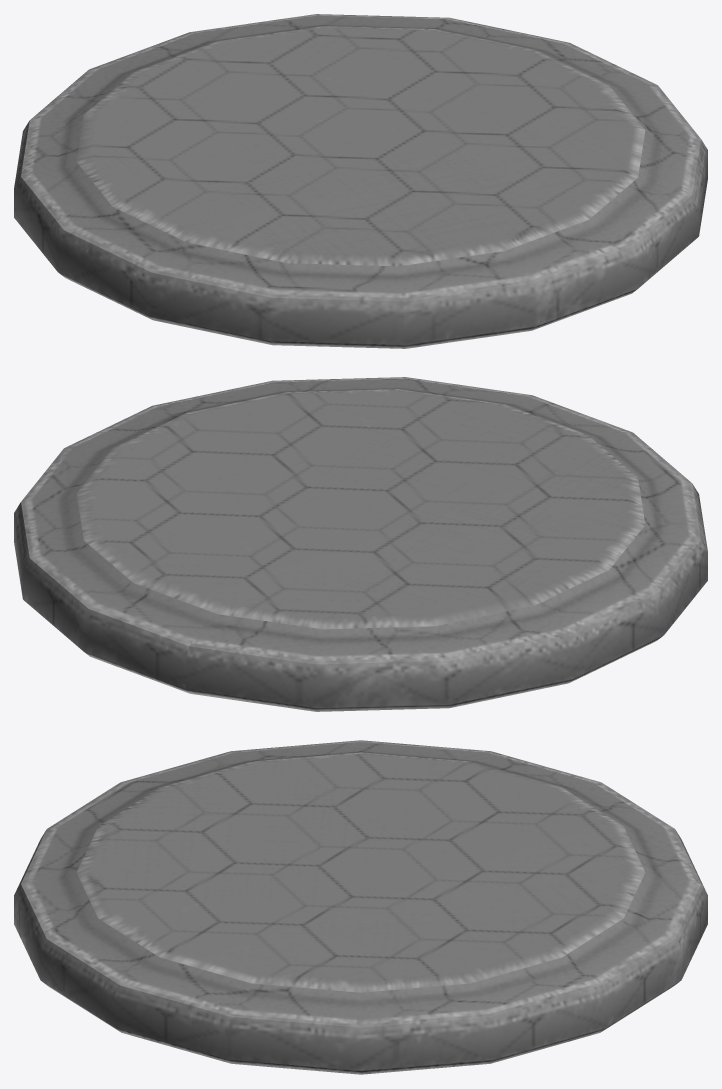
File: SM_ChipsCan_CanLid.fbx
3 renders of one model, top to bottom at view 1: azimuth 30°, elevation 25°; view 2: azimuth 150°, elevation 25°; view 3: azimuth 270°, elevation 25°, orthographic.
Parts seen in each view (by area): view 1: CanLid; view 2: CanLid; view 3: CanLid.
Boxes of the visible parts, x1=… form: CanLid: x1=14, y1=14, x2=707, y2=348; CanLid: x1=14, y1=377, x2=707, y2=711; CanLid: x1=14, y1=740, x2=707, y2=1074.
Bounding box in the file's own units: 6.92 × 6.92 × 0.6953.
1 material, 1 textured.
